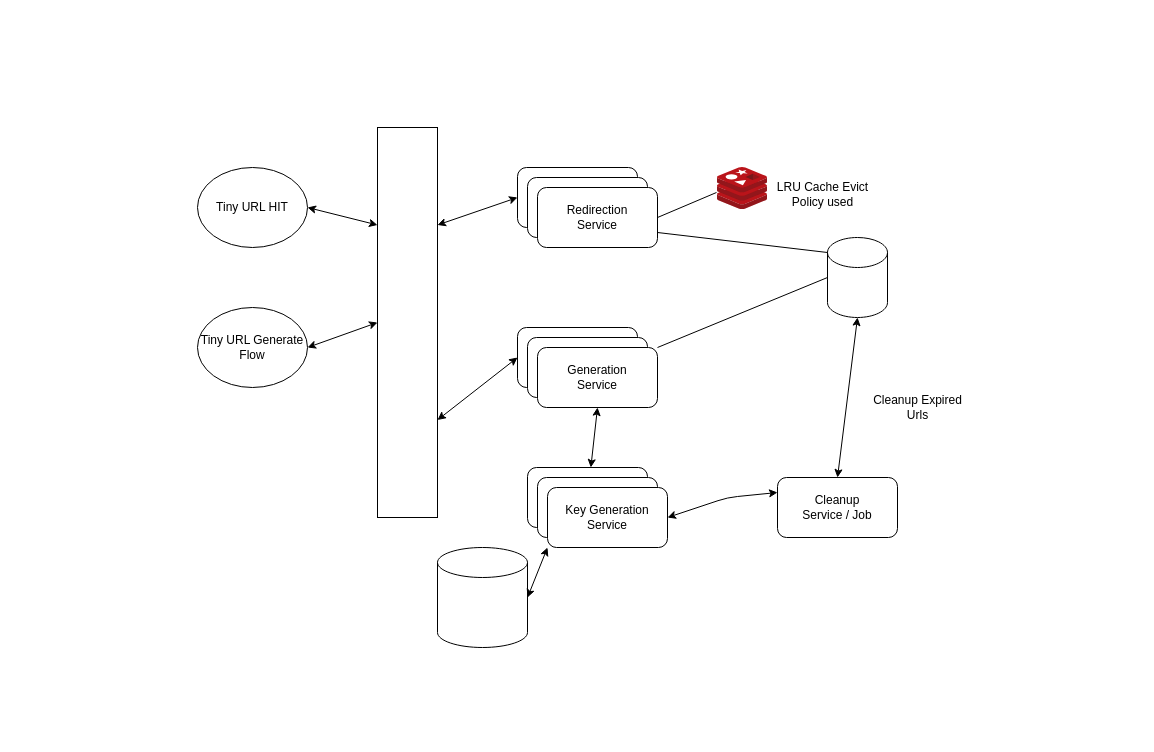
The diagram is 1154 pixels wide and 752 high, and some of its shapes have lost their labels. Each missing label, with the centre of its shape:
"Cassandra Cluster" belongs at (857,277).
"KGS DB Master Slave" belongs at (482,597).
"Load Balancer" belongs at (407,322).
